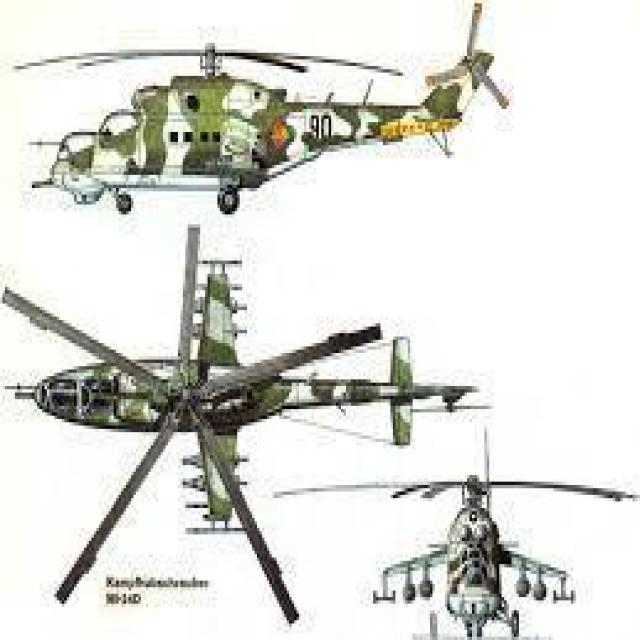Tanks: (36, 246, 389, 559), (45, 32, 509, 206), (400, 462, 549, 633)
